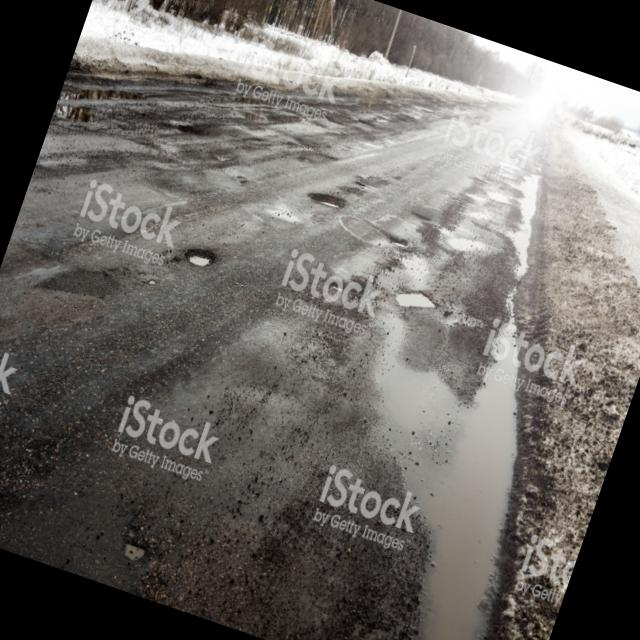Potholes: (275, 247, 607, 640), (163, 228, 238, 298), (382, 256, 452, 326), (293, 171, 359, 230), (401, 197, 448, 240)
